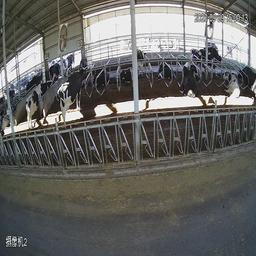cow: (59, 68, 88, 126), (25, 73, 54, 131), (238, 56, 255, 112), (178, 63, 200, 101), (221, 64, 242, 103), (91, 61, 111, 96), (185, 40, 206, 70), (156, 55, 174, 83), (136, 43, 150, 79), (117, 60, 131, 89), (202, 45, 216, 73), (214, 41, 223, 70)
